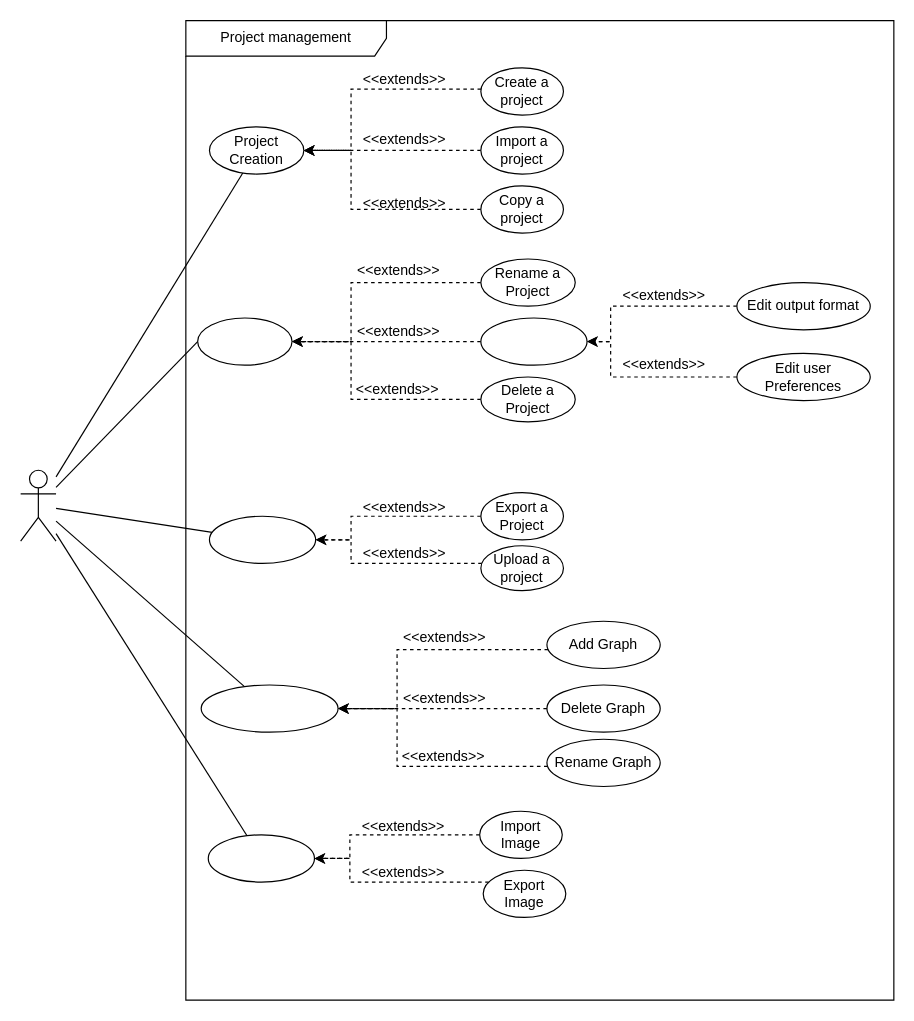
Image size: 914x1021. Some labels were removed from this diagram. The centre of each missing label's shape, as x and y in pixels:
Edit Project settings: point (533, 341)
Graph Manipulation: point (269, 708)
Image Handling: point (260, 858)
Project Manipulation: point (244, 341)
Project Output: point (262, 539)
User: point (37, 505)
